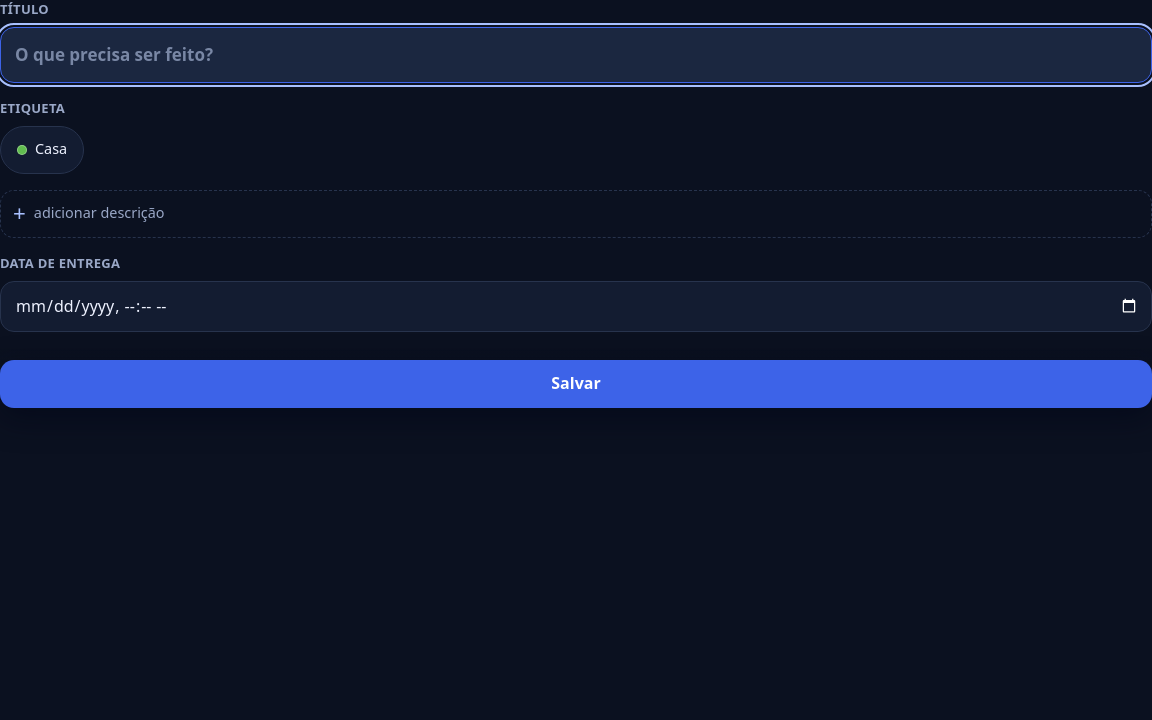
CardForm › keeps the typed text when saving fails (SC-004)
Type "Comprar leite" into the field labelled "Título".
click(576, 55); type("Comprar leite")  # box x1=0 y1=27 x2=1151 y2=83
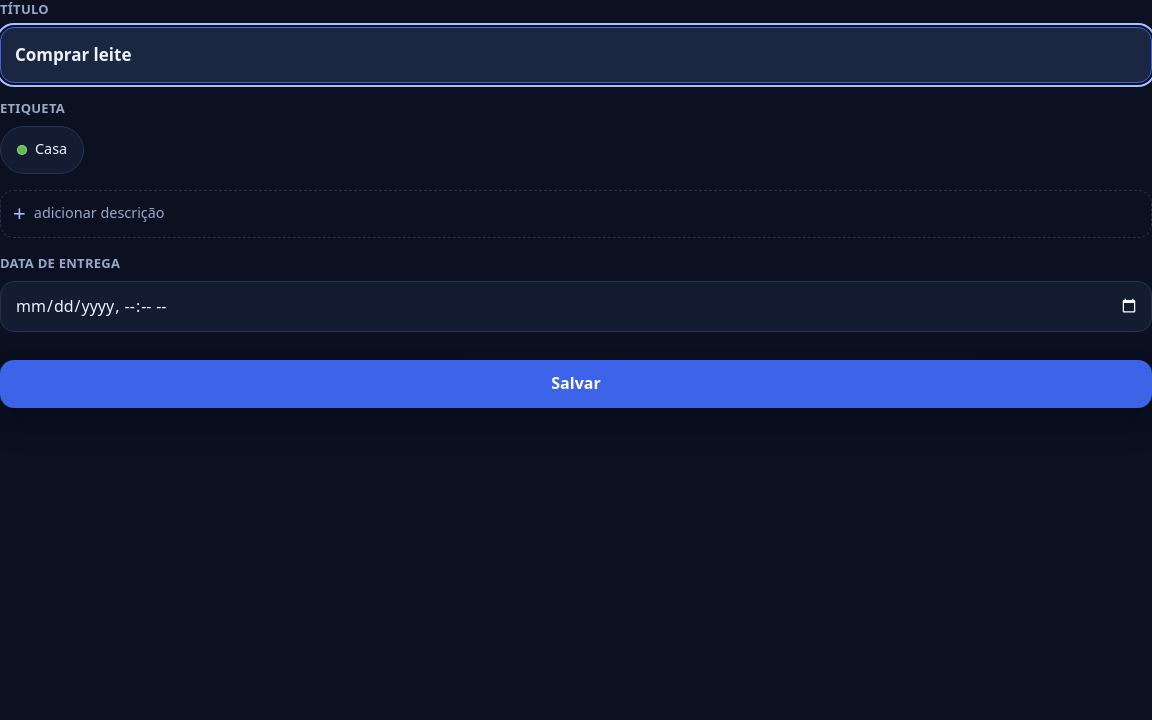
Click the button "+ adicionar descrição".
click(99, 213)  # box x1=0 y1=190 x2=1151 y2=238
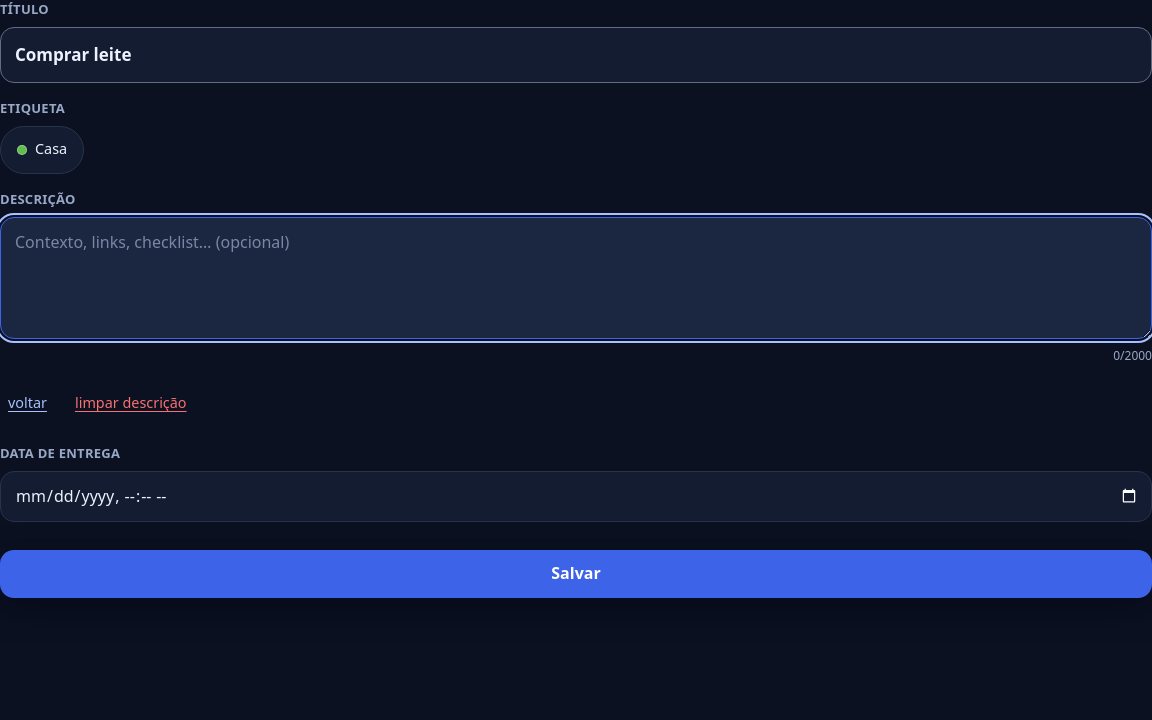
Type "rascunho" into the text box labelled "Descrição".
click(576, 278); type("rascunho")  # box x1=0 y1=216 x2=1151 y2=338
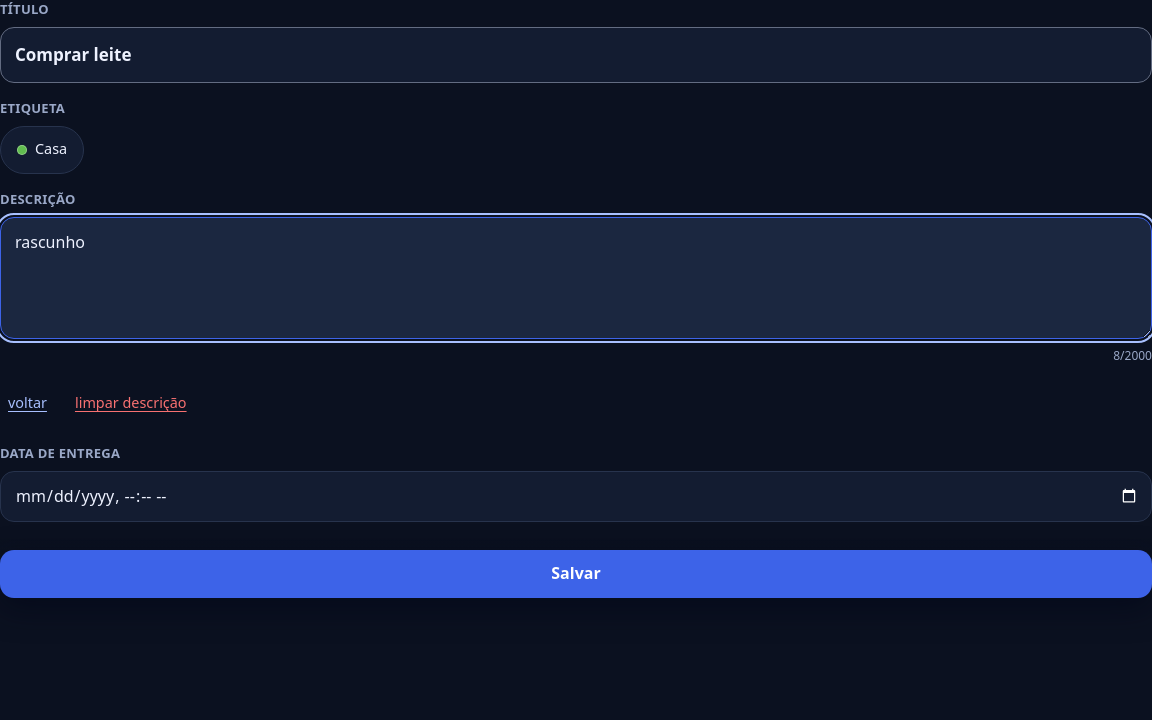
Click the button "Salvar".
click(576, 574)  # box x1=0 y1=550 x2=1151 y2=598
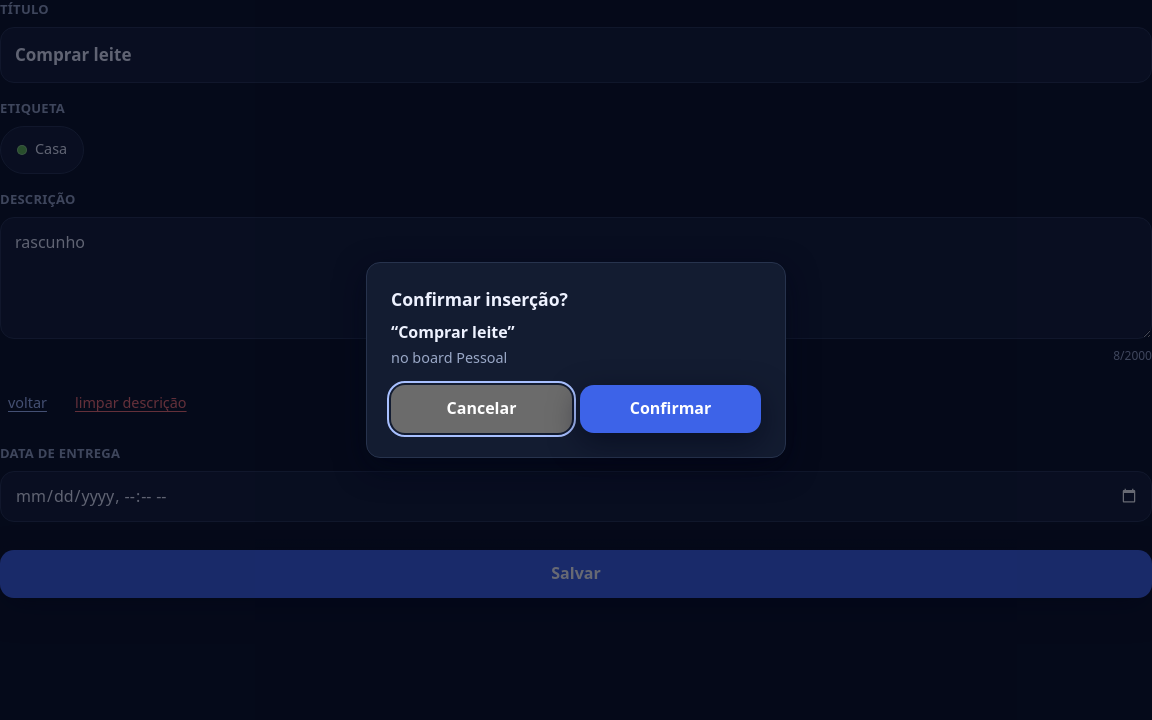
Click the button "Confirmar".
click(670, 409)  # box x1=580 y1=385 x2=761 y2=433
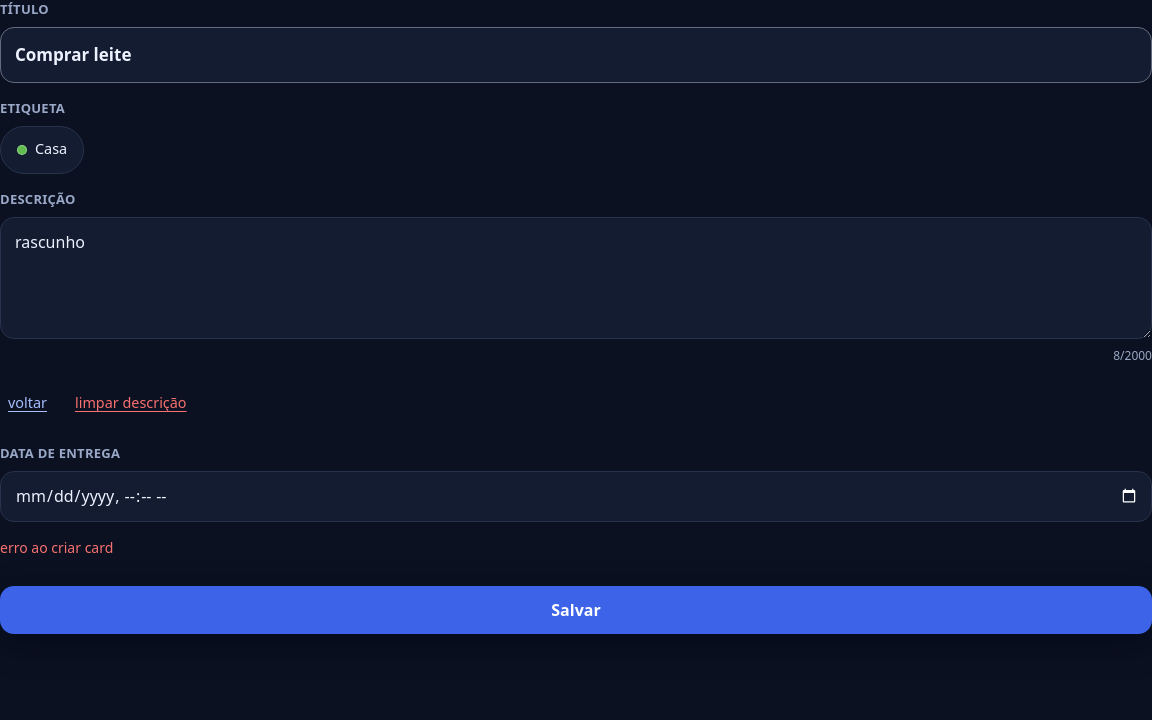
Expected: the message reads "erro ao criar card", x1=0 y1=538 x2=113 y2=557
